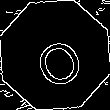O_NW: (25, 23, 85, 87)
